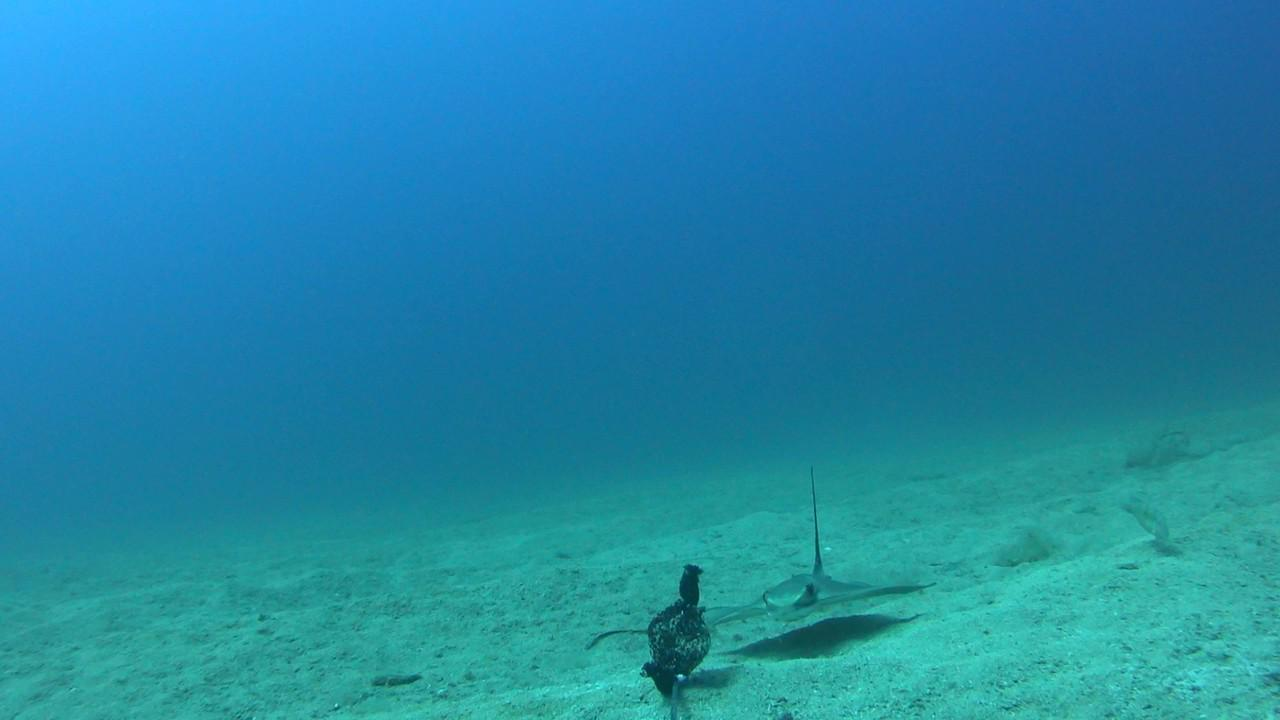myliobatis: (676, 463, 941, 643)
raor: (1111, 498, 1173, 546)
